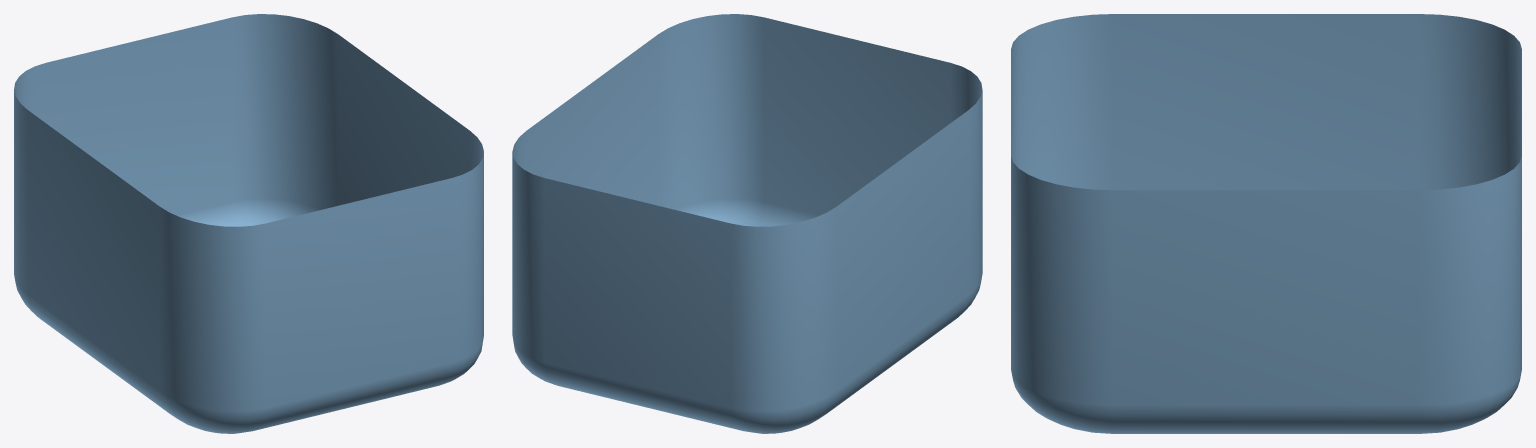
3 views of the same model, side by side, from view 1: azimuth 30°, elevation 25°; view 2: azimuth 150°, elevation 25°; view 3: azimuth 270°, elevation 25° (orthographic). The views are drawn at different scales.
Visible parts, largest first — view 1: Cube; view 2: Cube; view 3: Cube.
Boxes of the visible parts, left/top/right/bottom form: Cube: left=14, top=14, right=483, bottom=433; Cube: left=512, top=14, right=982, bottom=433; Cube: left=1011, top=14, right=1521, bottom=433.
Size of the model in its own units: 47.01 by 33.38 by 57.59.
